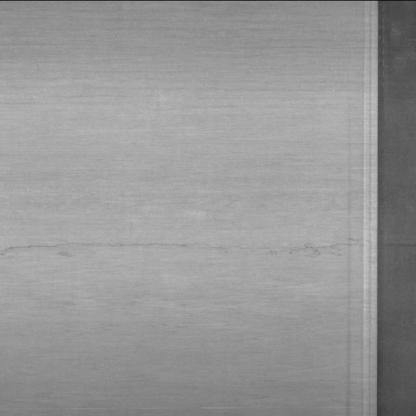welding_line: (350, 0, 393, 415)
